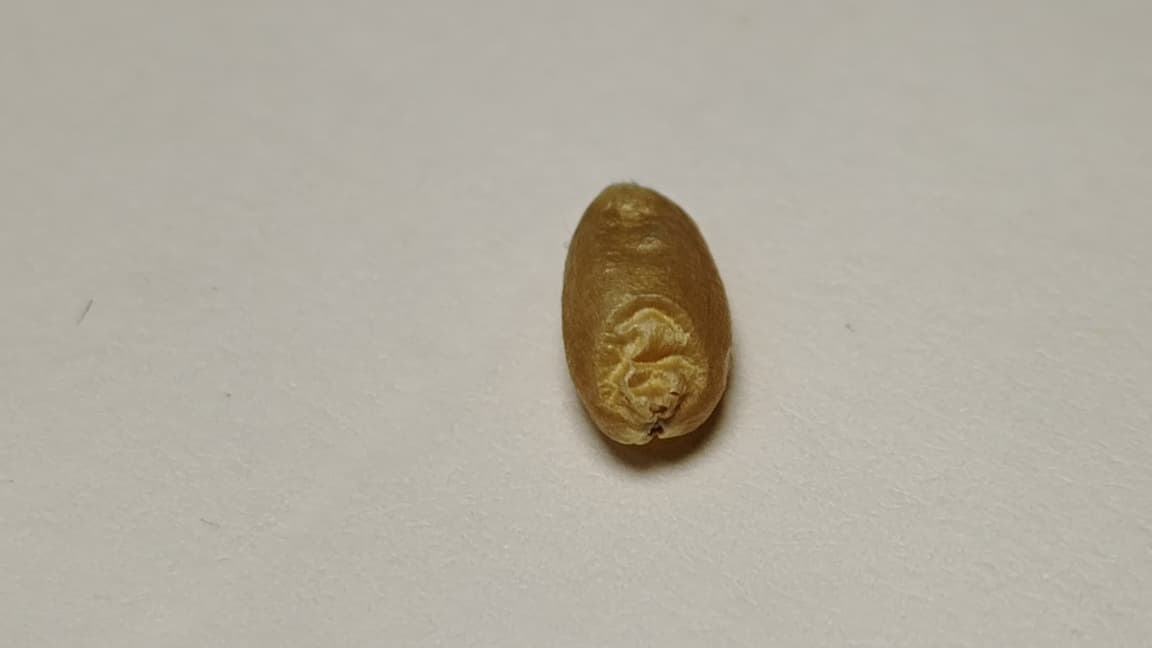healthy: (562, 183, 731, 444)
